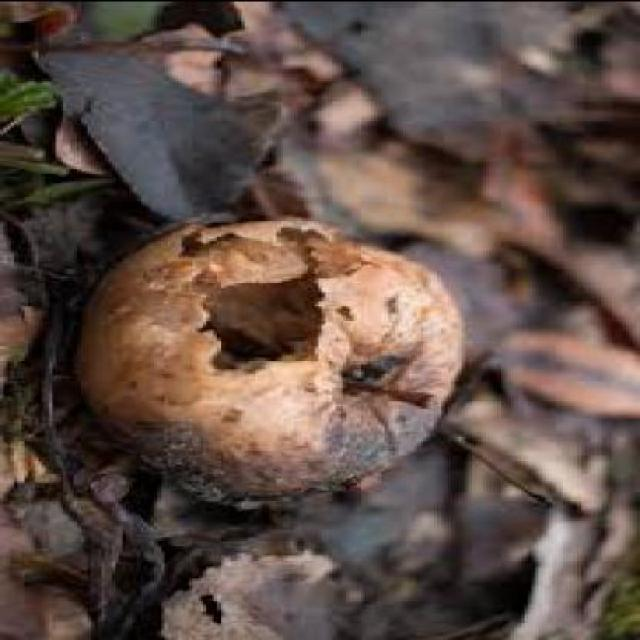BIODEGRADABLE: (77, 214, 475, 509)
